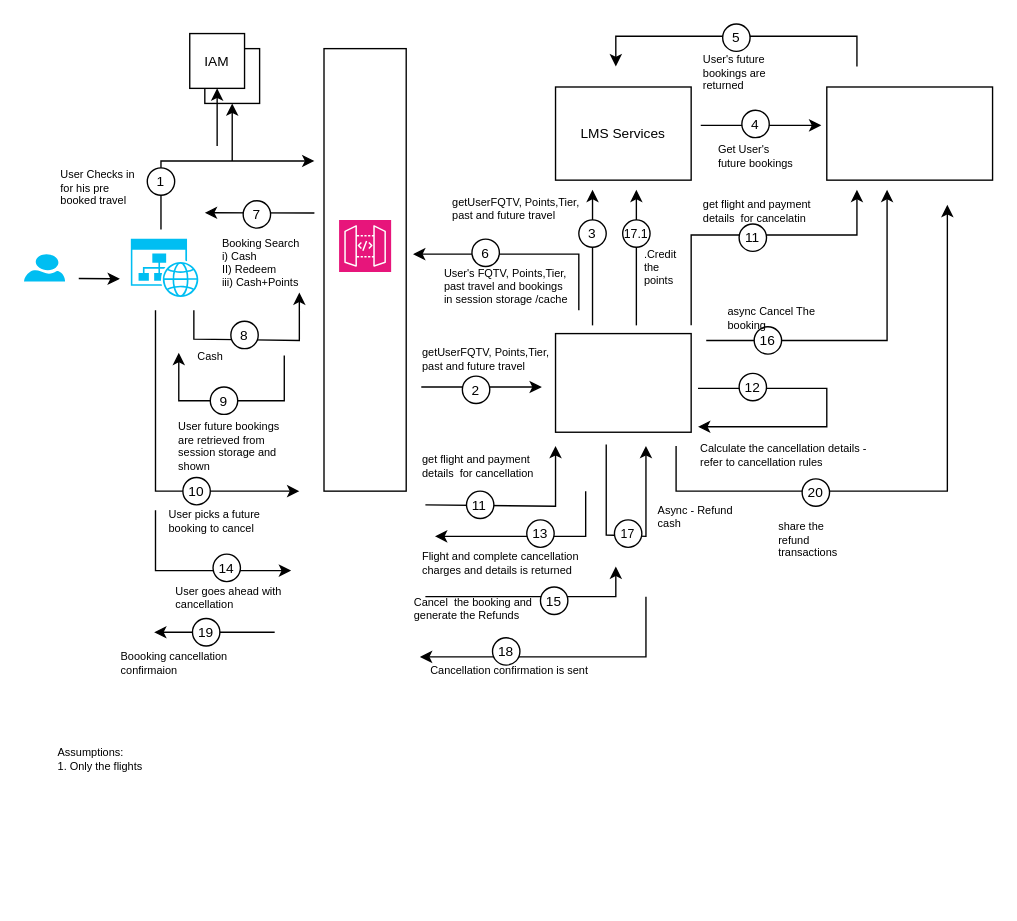
This 1017x921 diagram has some shape labels left out. The shapes that lost their labels are listed below. From the top down, each one's box as (x1, y1, x2, y2) in pixels, then its label:
(825, 86, 993, 180): 1N API/Services
(554, 332, 691, 432): Skyplus Services
